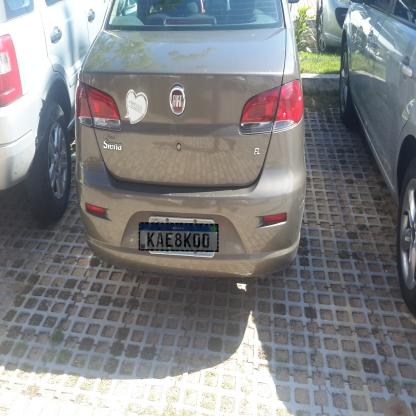PlacaM: (138, 222, 218, 252)
